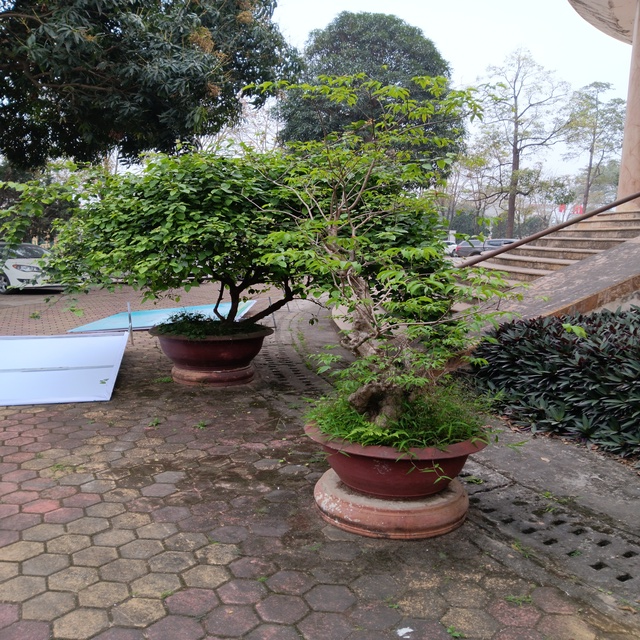caycanh: (264, 69, 520, 548), (65, 125, 332, 408)
